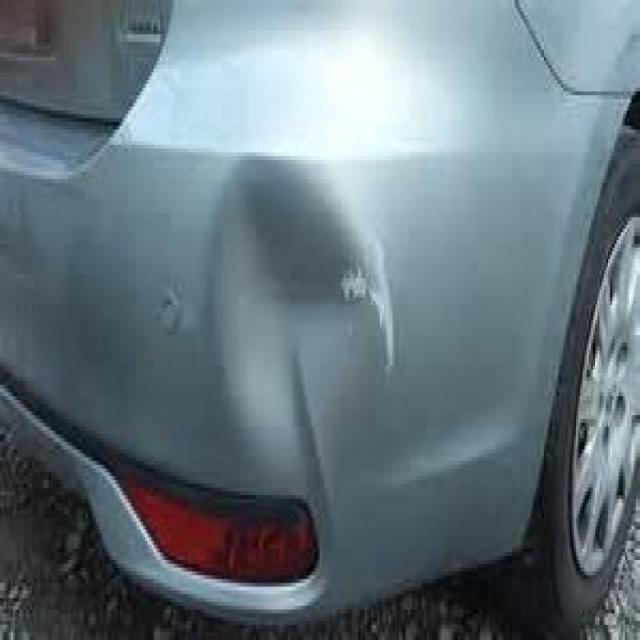dent: (214, 158, 384, 470)
